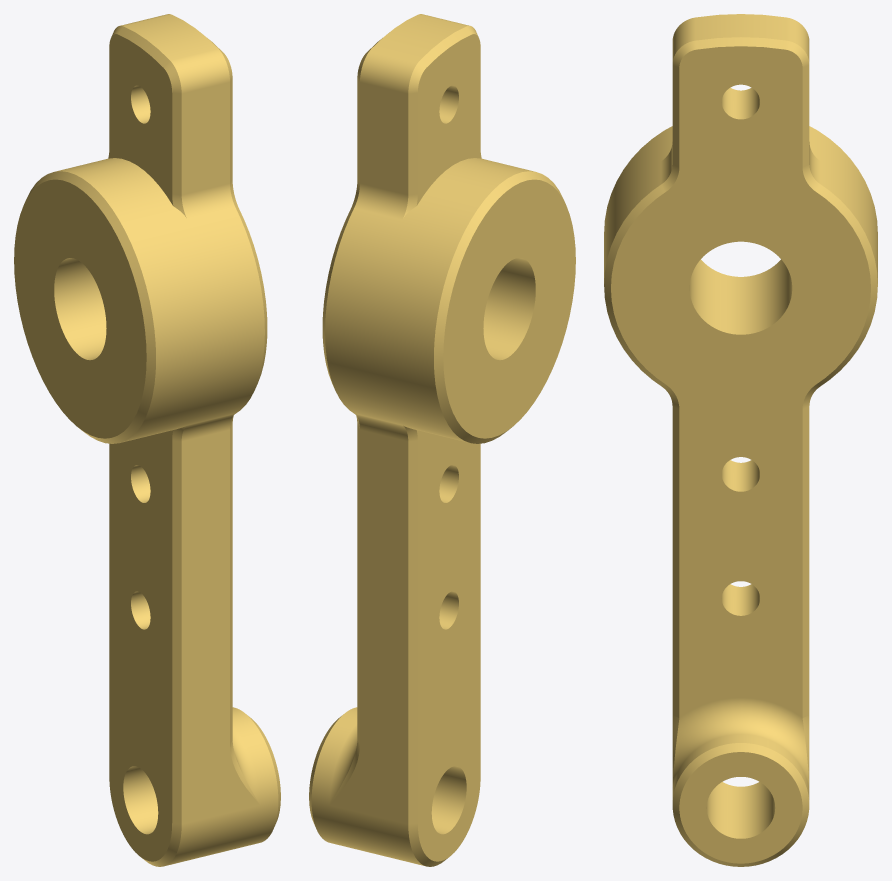
Rendered from bottom_arm_2 - Part 1.obj.
3 views of the same model, side by side, from view 1: azimuth 30°, elevation 25°; view 2: azimuth 150°, elevation 25°; view 3: azimuth 270°, elevation 25° (orthographic).
Parts seen in each view (by area): view 1: mesh46, mesh1, mesh51, mesh14, mesh47, mesh13, mesh28, mesh50, mesh4, mesh52, mesh35, mesh32 (+12 smaller); view 2: mesh46, mesh1, mesh51, mesh18, mesh47, mesh13, mesh41, mesh50, mesh7, mesh52, mesh35, mesh38 (+12 smaller); view 3: mesh49, mesh11, mesh46, mesh50, mesh17, mesh10, mesh12, mesh15, mesh19, mesh35, mesh22, mesh24 (+9 smaller).
Part boxes in pixels (x1,y1,x2,y2): mesh46: (56, 158, 264, 442); mesh1: (109, 430, 173, 861); mesh51: (14, 179, 146, 438); mesh14: (181, 430, 259, 823); mesh47: (108, 34, 173, 205); mesh13: (164, 707, 278, 866); mesh28: (181, 82, 229, 194); mesh50: (54, 258, 106, 360); mesh4: (172, 440, 181, 824); mesh52: (25, 171, 155, 443); mesh35: (124, 14, 217, 60); mesh32: (170, 48, 229, 93); mesh46: (325, 158, 533, 442); mesh1: (416, 430, 480, 861); mesh51: (443, 179, 575, 438); mesh18: (330, 430, 408, 823); mesh47: (416, 34, 481, 205); mesh13: (311, 707, 425, 866); mesh41: (360, 82, 408, 194); mesh50: (483, 258, 535, 360); mesh7: (408, 440, 417, 824); mesh52: (434, 171, 564, 443); mesh35: (372, 14, 465, 60); mesh38: (360, 48, 419, 93); mesh49: (611, 46, 870, 717); mesh11: (679, 752, 802, 863); mesh46: (604, 126, 877, 283); mesh50: (689, 259, 792, 334); mesh17: (672, 698, 809, 790); mesh10: (706, 782, 775, 838); mesh12: (672, 743, 809, 866); mesh15: (672, 406, 679, 717); mesh19: (802, 406, 809, 717); mesh35: (695, 14, 786, 40); mesh22: (604, 185, 664, 385); mesh24: (817, 185, 877, 385).
Bounding box in the file's own units: 0.0178 × 0.0826 × 0.0254.
